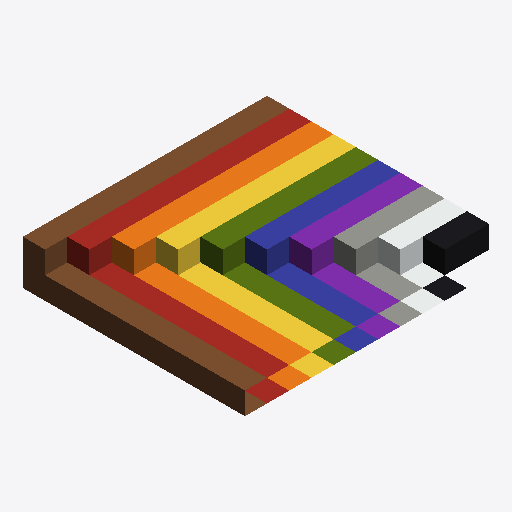
A Minecraft block model of 11 cuboids, rendered isometrically (azimuth 45°, elevation 35.3°) with the resource pack's own textures.
Visible parts, largest first — element 11, element 1, element 2, element 3, element 4, element 5, element 6, element 7, element 8, element 9, element 10.
Part boxes in pixels (x1,y1,x2,y2): element 11: (23, 262, 465, 415); element 1: (23, 96, 288, 274); element 2: (67, 109, 310, 274); element 3: (112, 121, 332, 274); element 4: (156, 134, 354, 274); element 5: (200, 147, 377, 274); element 6: (245, 160, 399, 274); element 7: (289, 173, 422, 274); element 8: (334, 186, 443, 274); element 9: (378, 198, 465, 274); element 10: (423, 211, 488, 274).
Size of the model in its own units: 11 by 2 by 10.